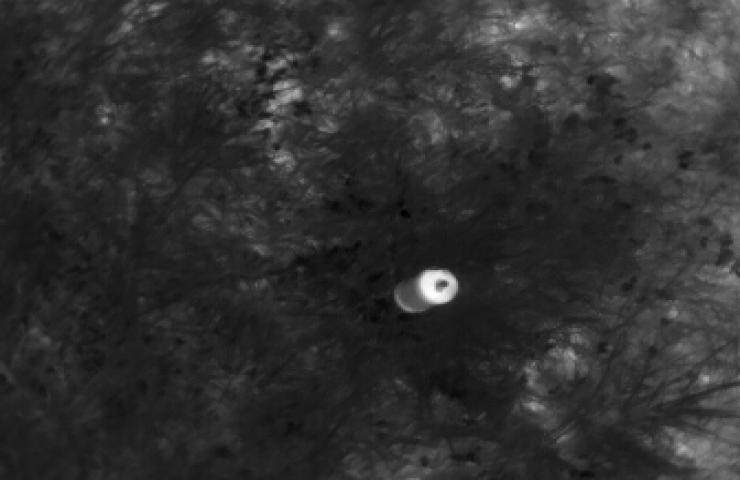landmines: (391, 264, 465, 318)
